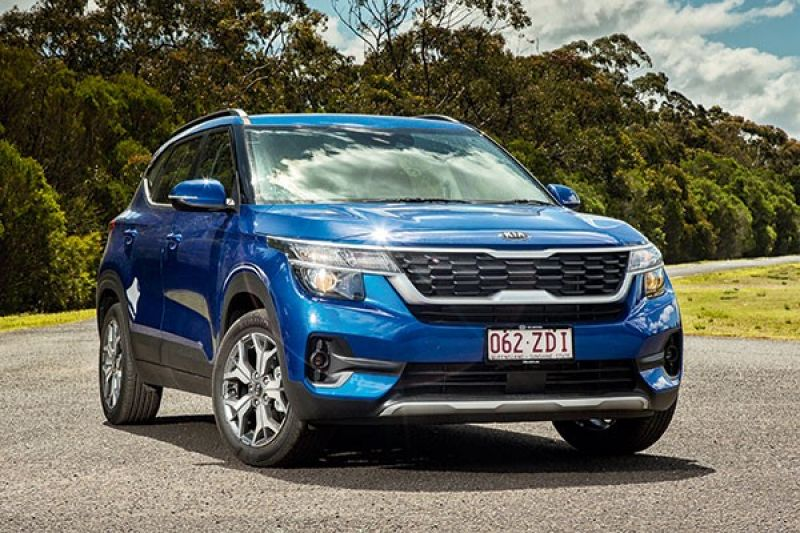car: (93, 108, 684, 471)
